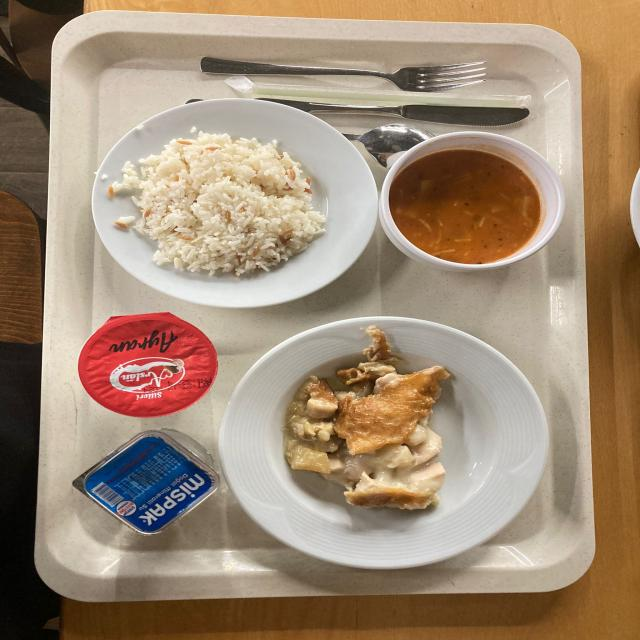ana_yemek: (217, 314, 534, 572), (91, 98, 371, 303)
corba: (379, 132, 556, 270)
